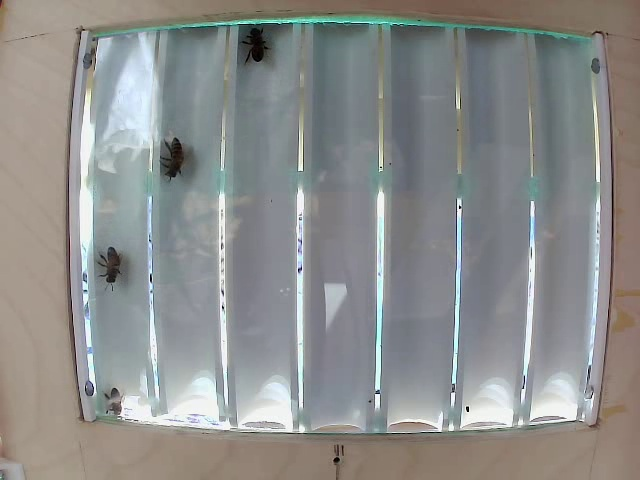bee: (88, 237, 136, 293), (161, 123, 201, 179), (241, 22, 281, 67)
